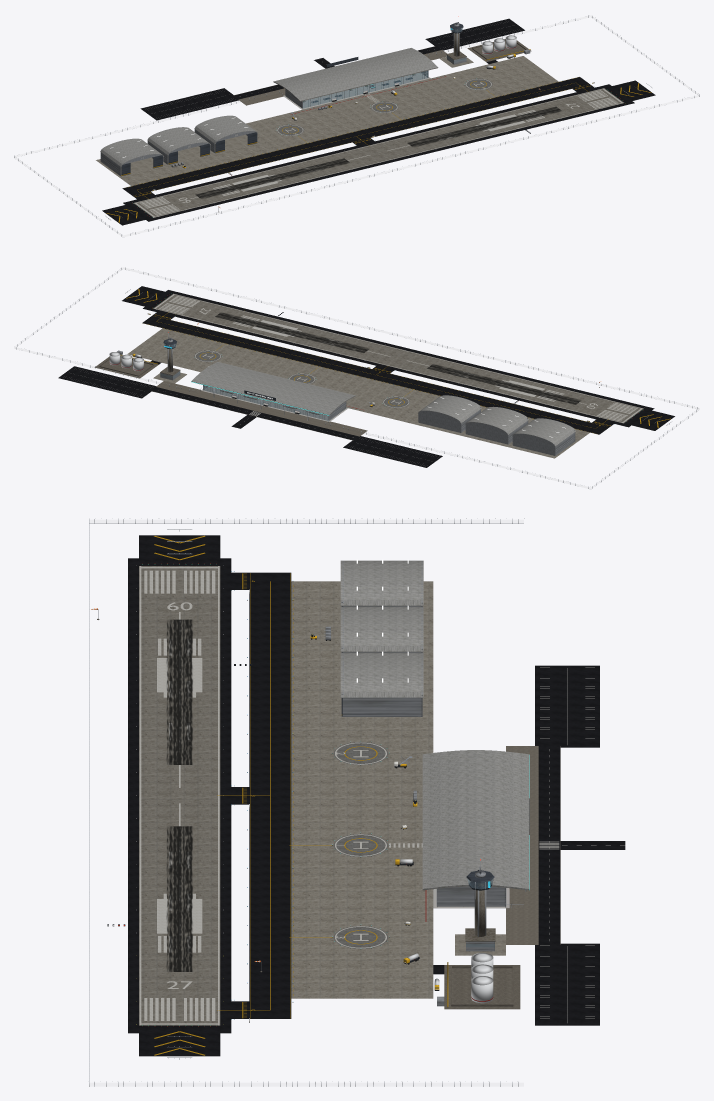
File: airport.glb
The picture shows the model from 3 angles, top to bottom: view 1: azimuth 30°, elevation 25°; view 2: azimuth 150°, elevation 25°; view 3: azimuth 270°, elevation 25°; orthographic projection. The views are drawn at different scales.
Parts seen in each view (by area): view 1: AP_ground, AP_build, AP_props; view 2: AP_ground, AP_build, AP_props; view 3: AP_ground, AP_build, AP_props.
Part boxes in pixels (bbox=[...]): AP_ground: bbox=[96, 18, 655, 225]; AP_build: bbox=[100, 16, 530, 176]; AP_props: bbox=[14, 15, 699, 236]; AP_ground: bbox=[58, 286, 674, 467]; AP_build: bbox=[99, 332, 575, 455]; AP_props: bbox=[15, 267, 698, 488]; AP_ground: bbox=[128, 535, 625, 1056]; AP_build: bbox=[340, 559, 529, 1007]; AP_props: bbox=[89, 518, 524, 1086].
Bounding box in the file's own units: 736 × 53.25 × 296.
Materials: 39 (18 with a texture image).
